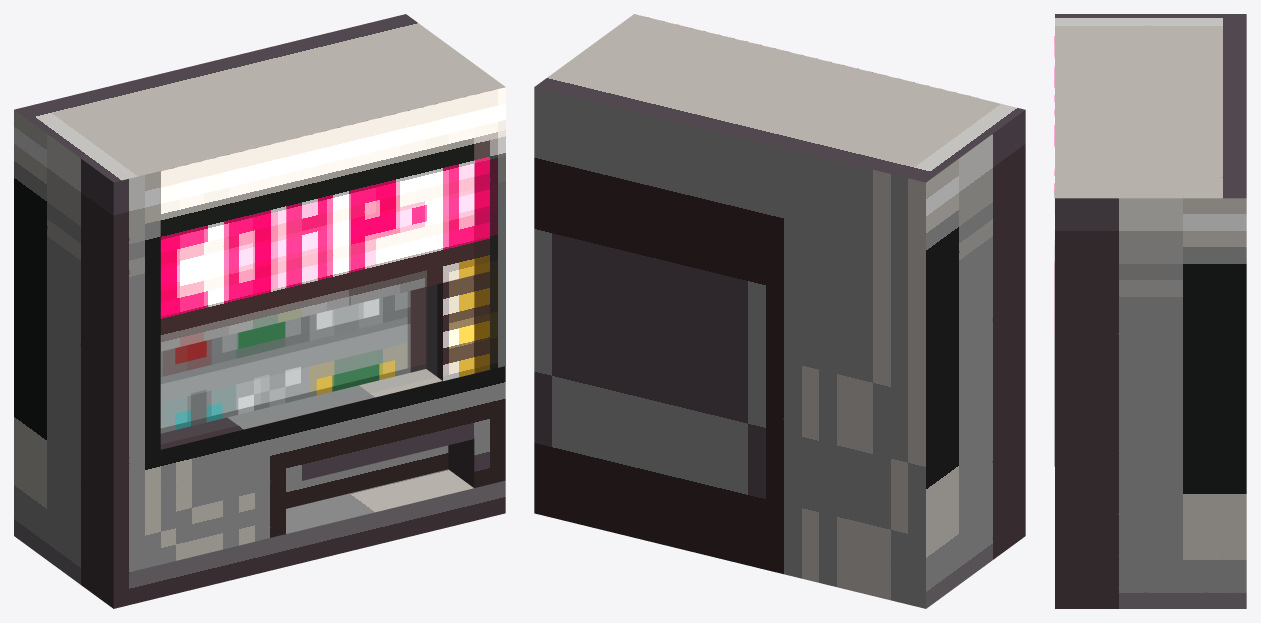
The model's file is vending_modularpc.glb.
3 views of the same model, side by side, from view 1: azimuth 30°, elevation 25°; view 2: azimuth 150°, elevation 25°; view 3: azimuth 270°, elevation 25° (orthographic). The views are drawn at different scales.
Parts seen in each view (by area): view 1: vending_modularpc_Cabinet, vending_modularpc, vending_modularpc_Display_Glass, vending_modularpc_Delivery_Flap; view 2: vending_modularpc_Cabinet; view 3: vending_modularpc_Cabinet, vending_modularpc.
Part boxes in pixels (box(x1,y1,x2,y2)): vending_modularpc_Cabinet: box(14, 14, 505, 608); vending_modularpc: box(160, 87, 505, 433); vending_modularpc_Display_Glass: box(161, 285, 436, 442); vending_modularpc_Delivery_Flap: box(286, 445, 448, 508); vending_modularpc_Cabinet: box(534, 14, 1025, 608); vending_modularpc_Cabinet: box(1055, 14, 1246, 608); vending_modularpc: box(1054, 36, 1054, 466).
Size of the model in its own units: 1.5 by 1.56 by 0.662.
Materials: 4 (3 with a texture image).
